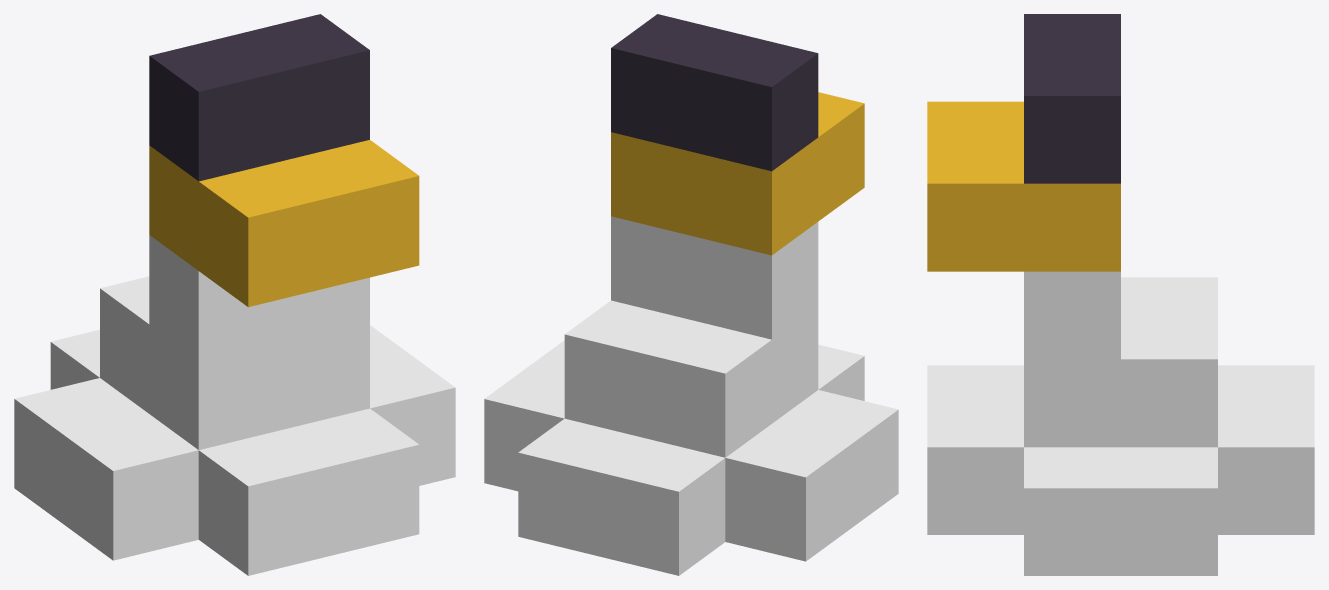
File: baby-seagull.obj
3 renders of one model, left to right at view 1: azimuth 30°, elevation 25°; view 2: azimuth 150°, elevation 25°; view 3: azimuth 270°, elevation 25°, orthographic. The views are drawn at different scales.
Bounding box in the file's own units: 0.4 × 0.5 × 0.4.
1 material, 1 textured.
